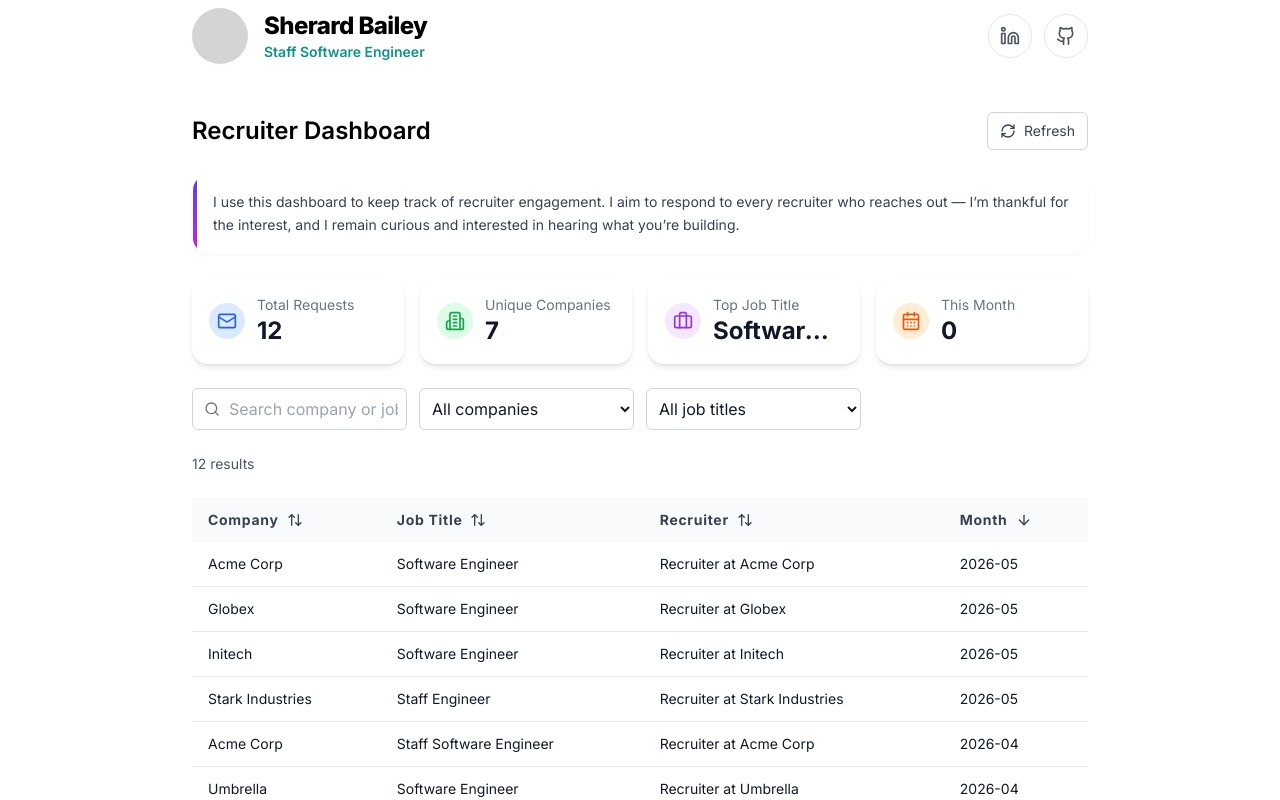
Test: DashboardPage (integration) › filters recruiters when the user types in search
The image size is (1280, 800).
Type "Globex" into the field labelled "Search company or job title" at (300, 408), box [192,388,407,430]
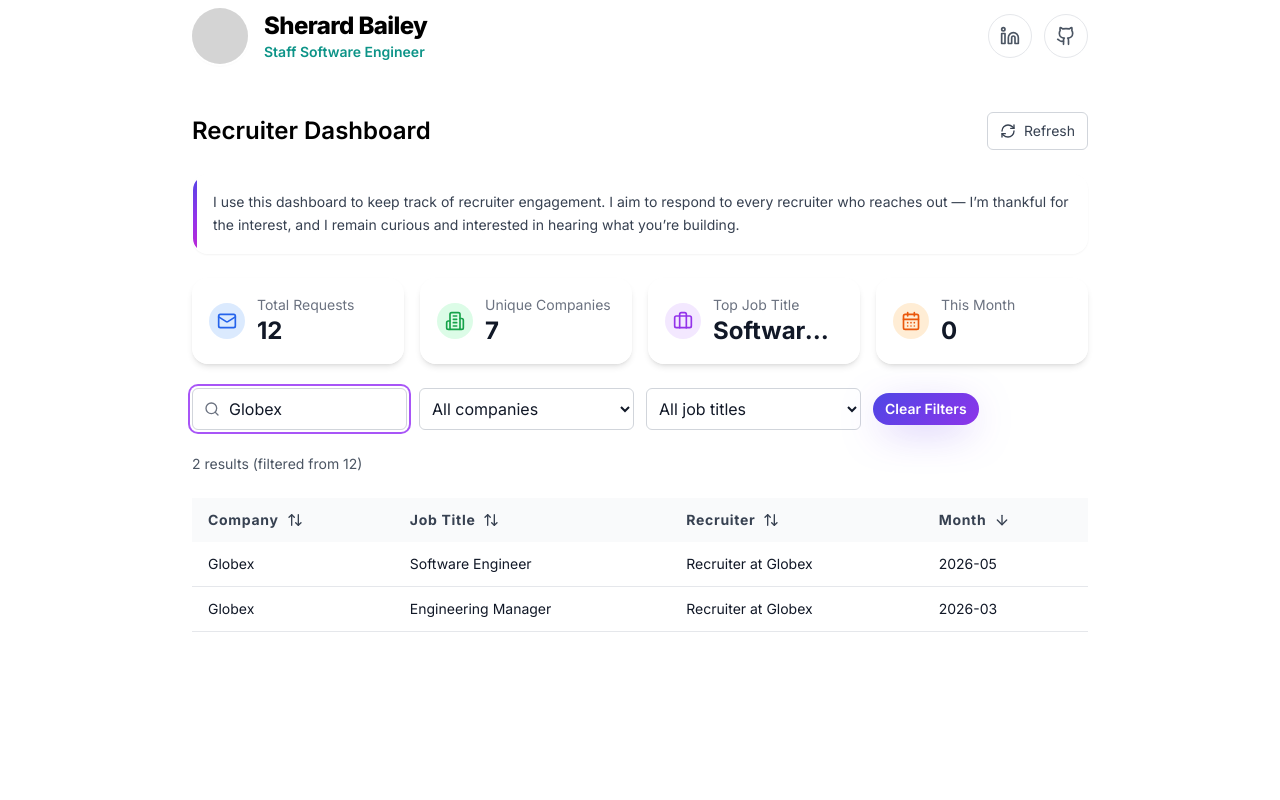
Expected: the text "2 results (filtered from 12)" is shown, [192,454,362,472]
